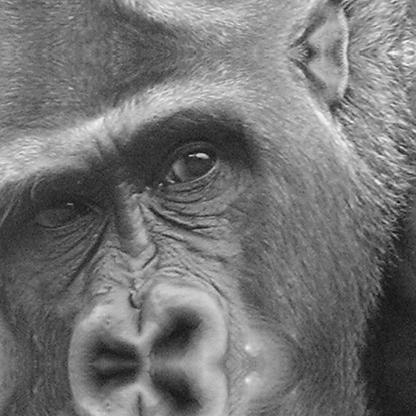Monkey: (24, 72, 414, 362)
